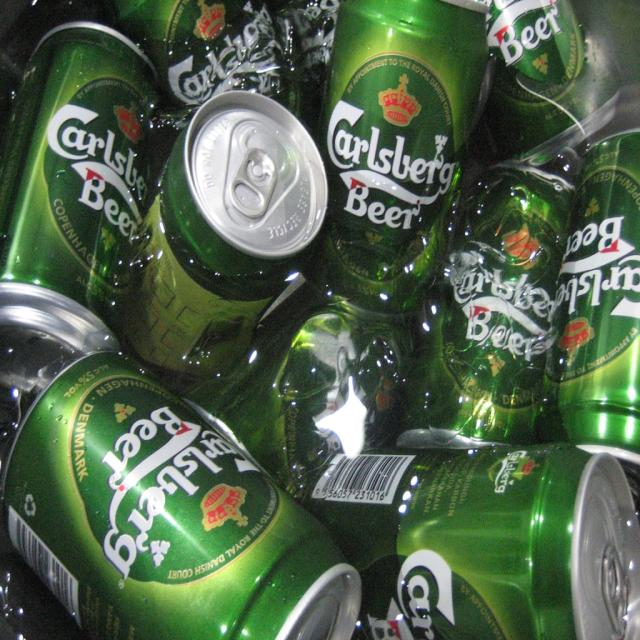carlsberg: (64, 370, 285, 586), (321, 55, 463, 279), (39, 71, 161, 300), (446, 208, 568, 406), (553, 171, 640, 379), (348, 543, 515, 640), (162, 2, 288, 112), (480, 2, 587, 102), (487, 444, 539, 500)
